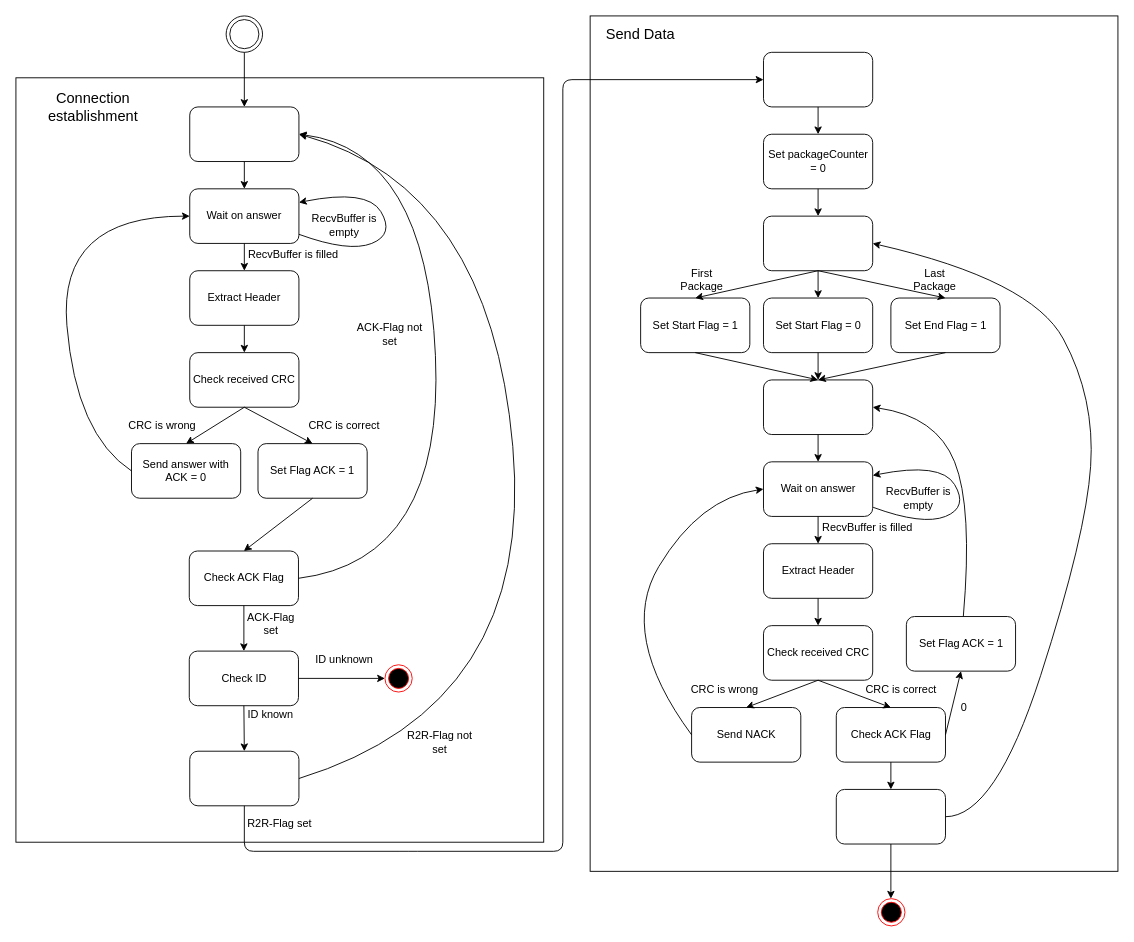
Some shapes in this 1134 by 942 pixel diagram are drawn without their labels. The shapes that lost their labels are listed below. From the top down, each one's centre as x and y in pixels, then its label:
At pixel 818 79: "Fill packages".
At pixel 244 134: "Send request to send".
At pixel 818 243: "Check PackageCounter".
At pixel 818 407: "Send Package".
At pixel 244 778: "Check Ready To receive Flag".
At pixel 890 816: "Package counter +1".
